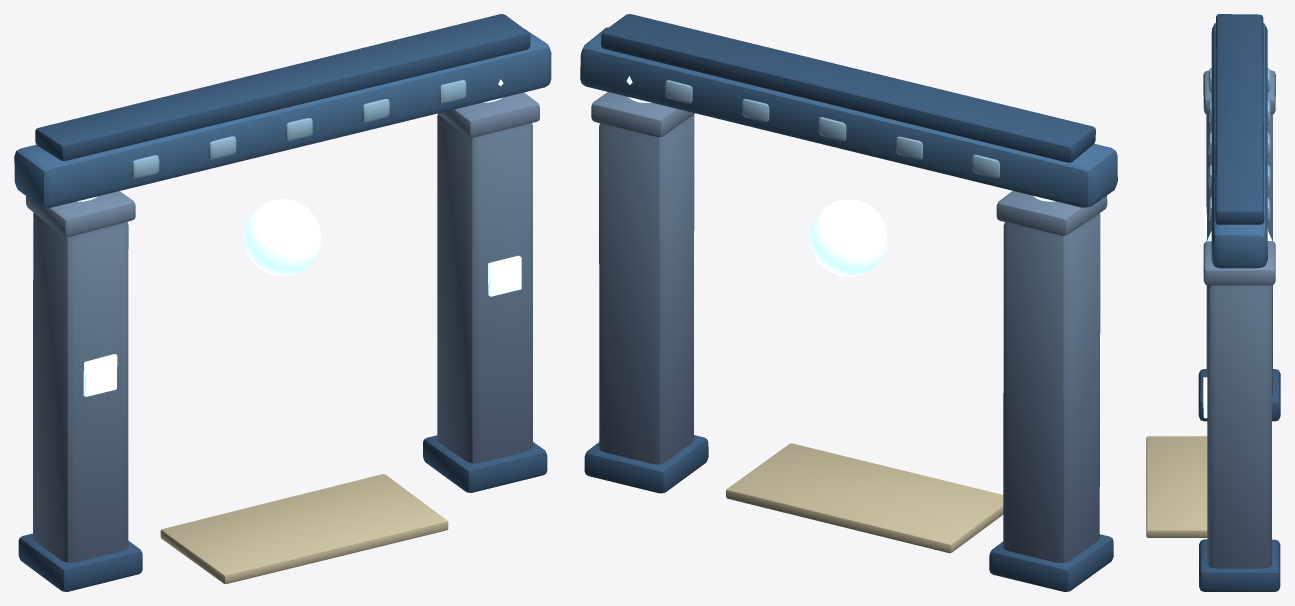
The picture shows the model from 3 angles, left to right: view 1: azimuth 30°, elevation 25°; view 2: azimuth 150°, elevation 25°; view 3: azimuth 270°, elevation 25°; orthographic projection. The views are drawn at different scales.
Visible parts, largest first — view 1: gate_05efd279; view 2: gate_05efd279; view 3: gate_05efd279.
Boxes of the visible parts, left/top/right/bottom form: gate_05efd279: left=14, top=14, right=551, bottom=591; gate_05efd279: left=580, top=14, right=1117, bottom=591; gate_05efd279: left=1146, top=14, right=1280, bottom=591.
Size of the model in its own units: 5.47 by 4.49 by 1.44.
